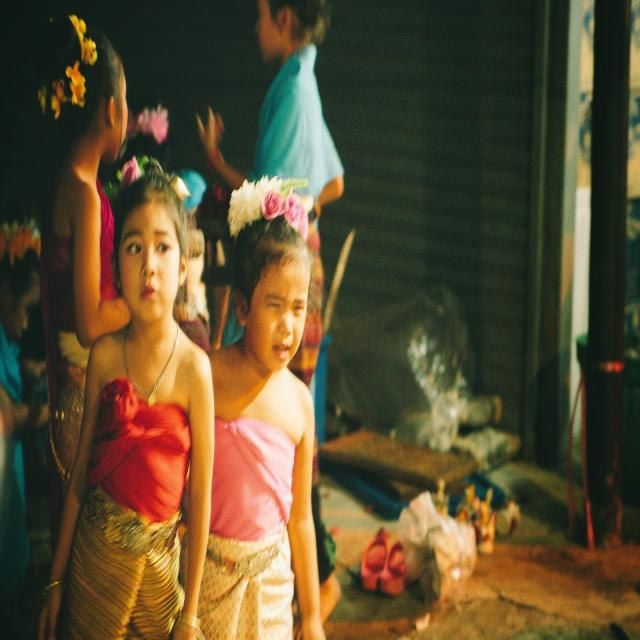body: (183, 0, 350, 639), (30, 150, 217, 639), (29, 11, 190, 563), (178, 173, 329, 639), (106, 96, 244, 360), (0, 215, 53, 640), (0, 378, 35, 544)
